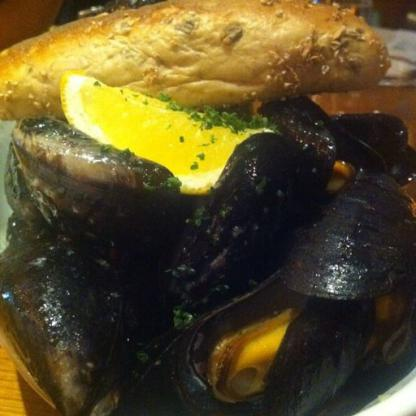bread: (0, 0, 389, 127)
